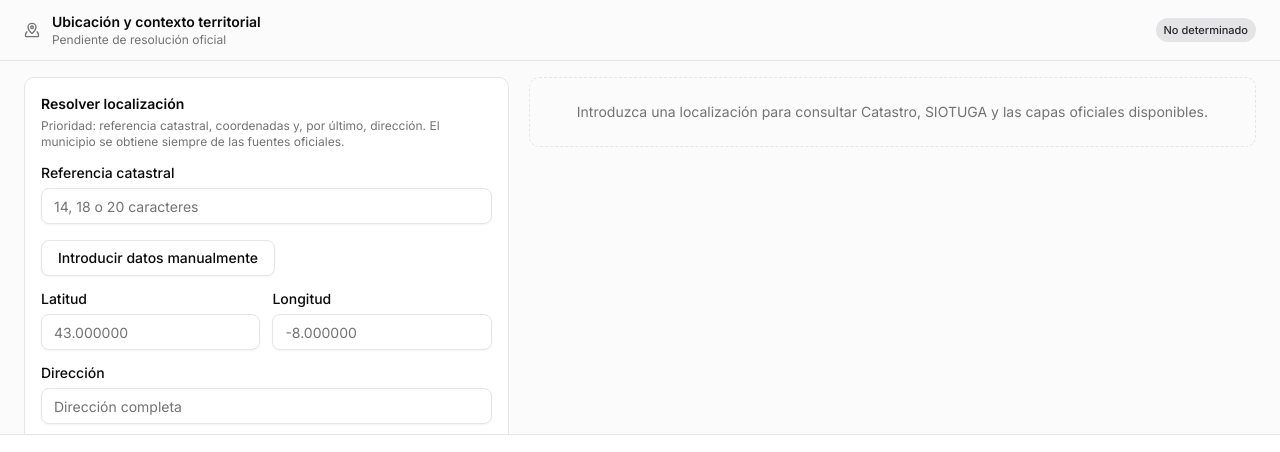
Test case: TerritorialContextPanel › ofrece resolucion oficial, reintento y continuacion manual diferenciada
This screenshot has width=1280, height=452.
Expected: the form named "resolver localizaci.n" is shown, [24,77,509,434]
Expected: the field labelled "Referencia catastral" is shown, [41,188,492,224]
Click the button "Introducir datos manualmente" at (158, 258), box [41,240,275,276]
(page scrolled)
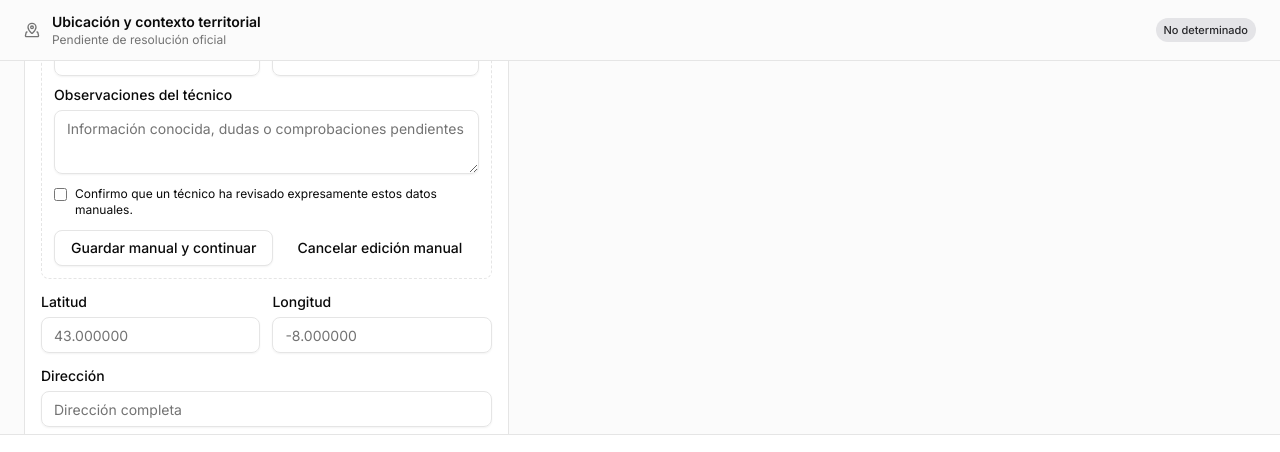
Result: the text box labelled "Observaciones del técnico" is shown at [54,110,479,174]
Result: the button "Guardar manual y continuar" is shown at [54,230,273,266]
